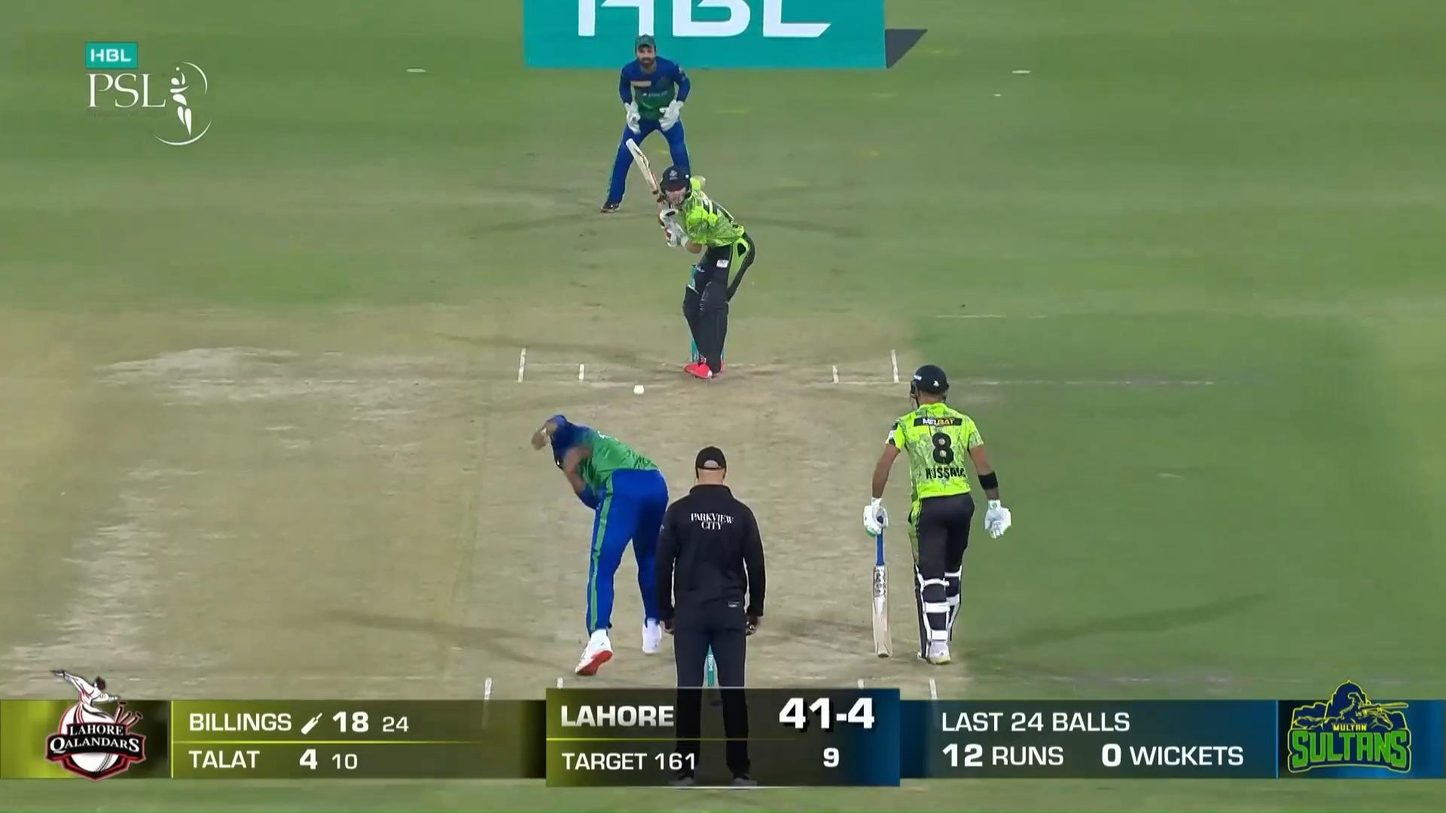batsman: (626, 137, 756, 380)
